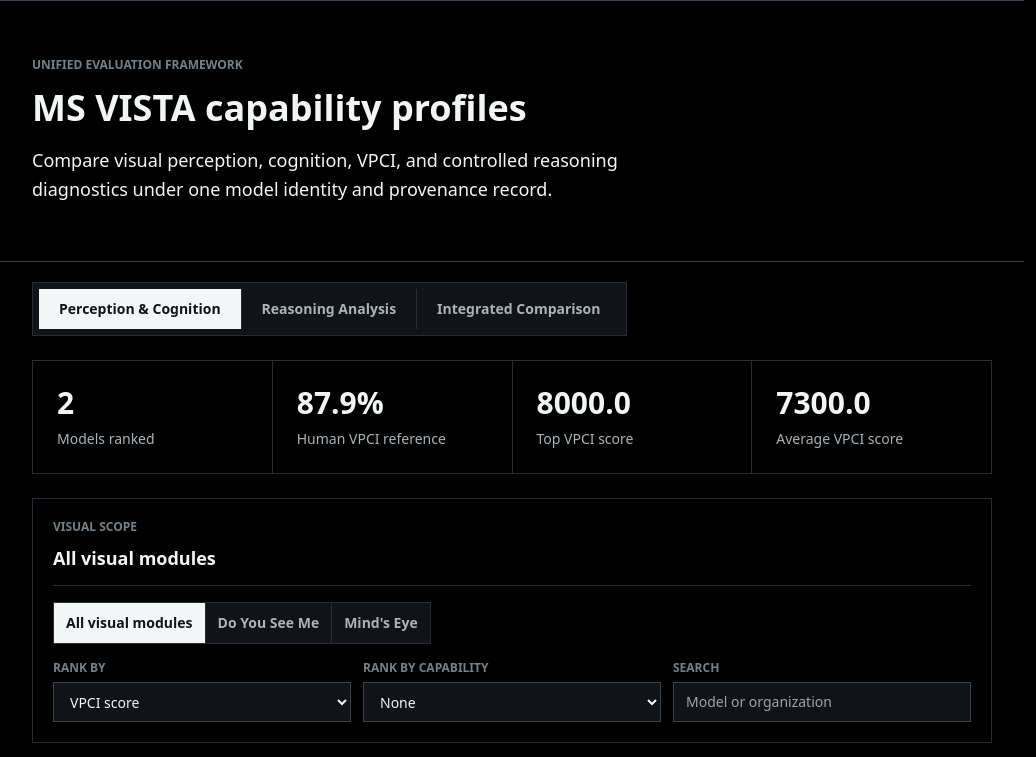
Test: leaderboard filter contracts › uses one scope column for a selected spatial benchmark
The image size is (1036, 757).
Click the tab "Reasoning Analysis".
click(329, 308)  # box x1=242 y1=288 x2=417 y2=328
(page scrolled)
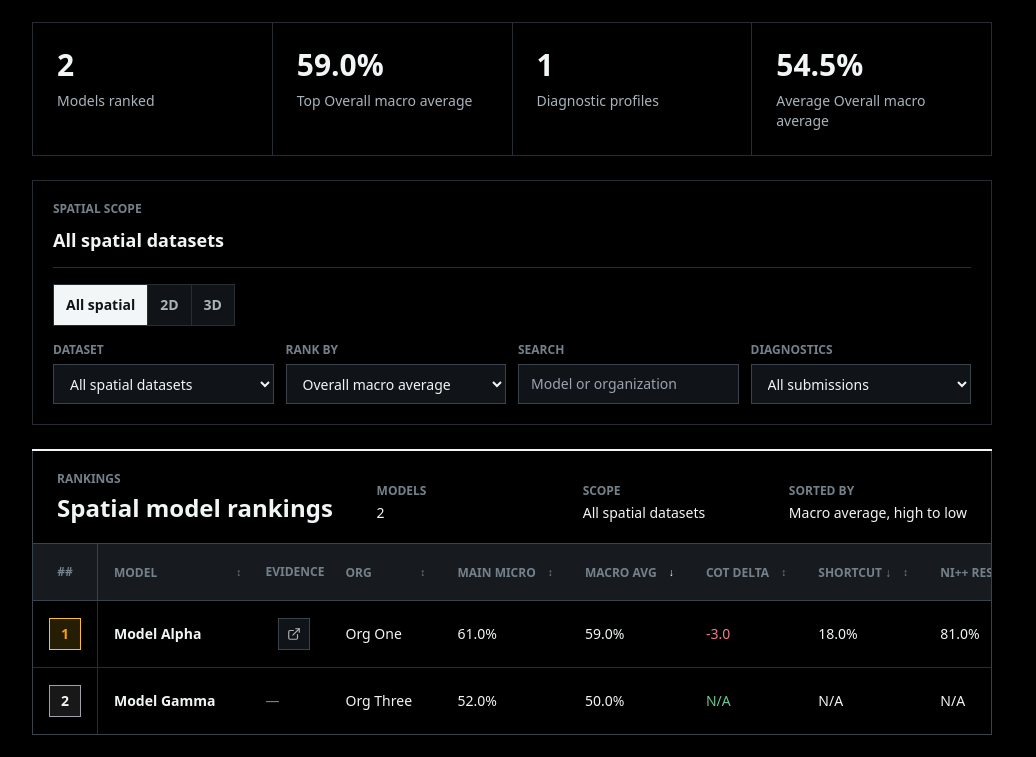
Check: the dropdown labelled "Diagnostics" is shown, box x1=750 y1=364 x2=971 y2=404
Select "BLINK" in the dropdown labelled "Dataset" at (163, 384), box x1=53 y1=364 x2=274 y2=404
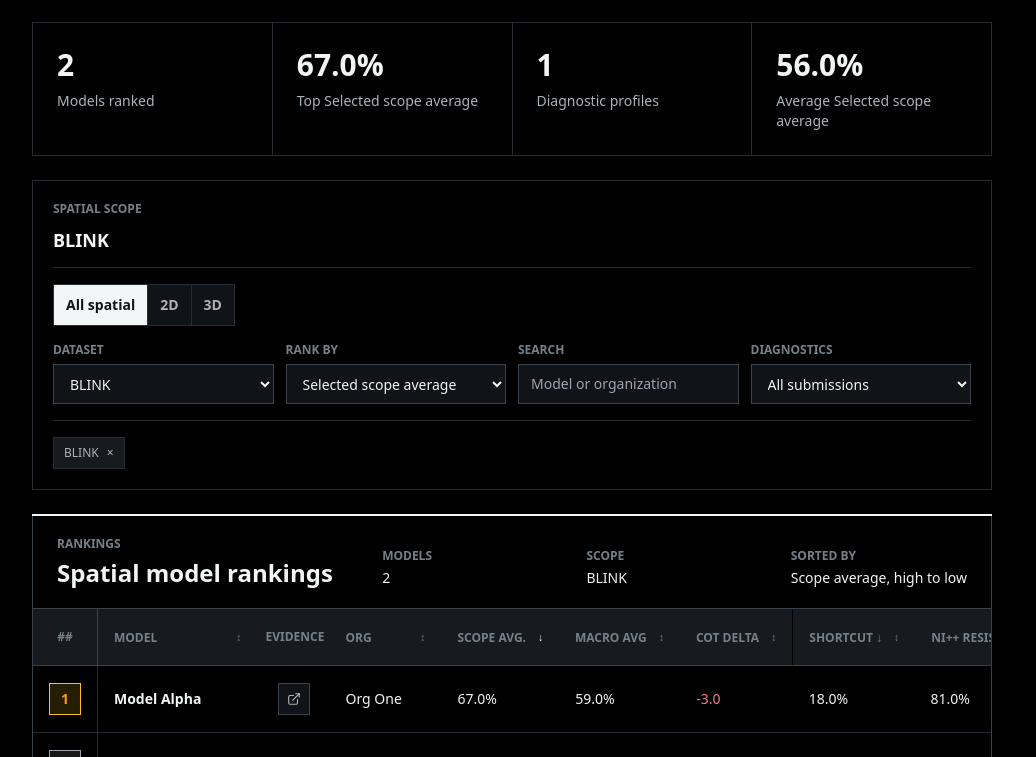
Check: the number of column headings "Scope avg. ↓" is 1, box x1=442 y1=609 x2=559 y2=666
Check: the dropdown labelled "Rank by" shows "Selected scope average", box x1=286 y1=364 x2=506 y2=404
